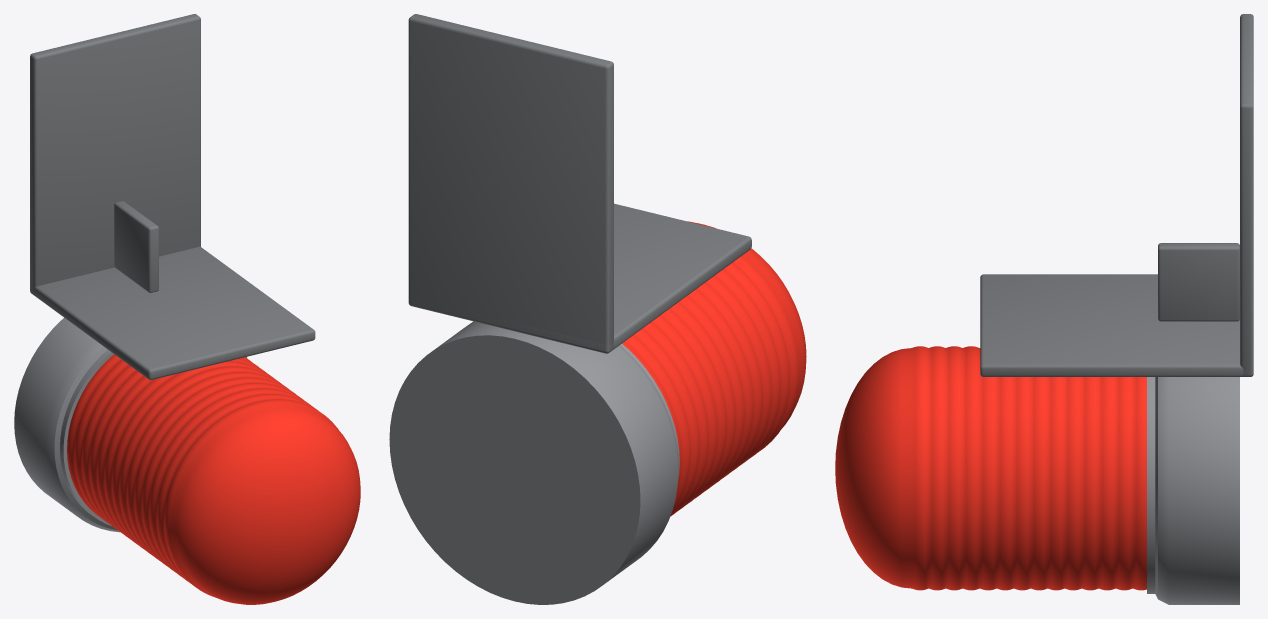
File: Warning_Beacon.fbx
The picture shows the model from 3 angles, left to right: view 1: azimuth 30°, elevation 25°; view 2: azimuth 150°, elevation 25°; view 3: azimuth 270°, elevation 25°; orthographic projection. The views are drawn at different scales.
Parts seen in each view (by area): view 1: Bracket, Dome, Base; view 2: Bracket, Base, Dome; view 3: Dome, Bracket, Base.
Boxes of the visible parts, box(x1,y1,x2,y2) form: Bracket: box(30, 14, 315, 379); Dome: box(67, 354, 360, 604); Base: box(14, 317, 247, 532); Bracket: box(408, 14, 751, 353); Base: box(389, 321, 679, 604); Dome: box(622, 221, 806, 516); Dome: box(835, 346, 1146, 590); Bracket: box(980, 14, 1253, 376); Base: box(1147, 377, 1239, 604).
Size of the model in its own units: 0.1 by 0.215 by 0.153.
